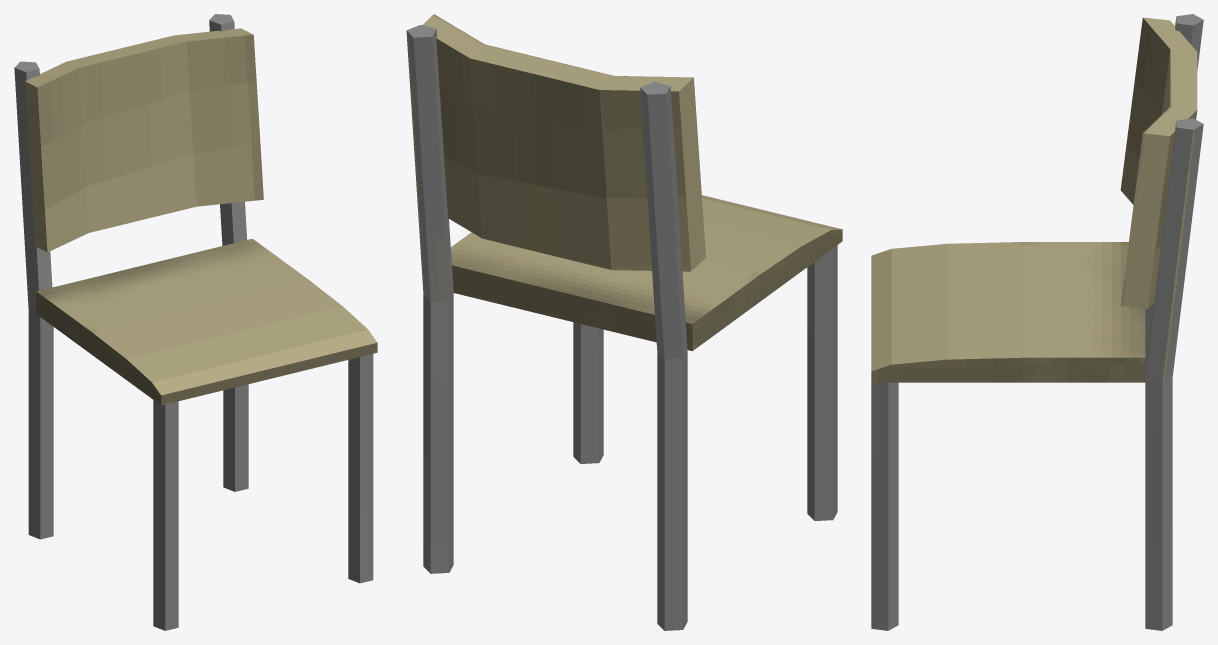
File: stol.fbx
The picture shows the model from 3 angles, left to right: view 1: azimuth 30°, elevation 25°; view 2: azimuth 150°, elevation 25°; view 3: azimuth 270°, elevation 25°; orthographic projection. The views are drawn at different scales.
Visible parts, largest first — view 1: Cylinder.001; view 2: Cylinder.001; view 3: Cylinder.001.
Part boxes in pixels (left/top/right/bottom): Cylinder.001: left=14, top=14, right=377, bottom=630; Cylinder.001: left=406, top=14, right=842, bottom=630; Cylinder.001: left=871, top=14, right=1203, bottom=630.
Size of the model in its own units: 50 by 101 by 60.66.
Materials: 1 (1 with a texture image).
